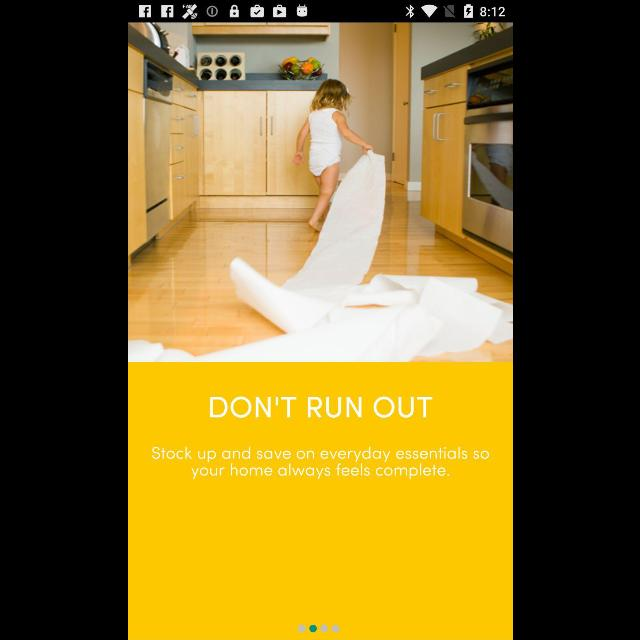image: (128, 23, 510, 361)
pageindicator: (297, 625, 339, 633)
text: (151, 446, 489, 480), (209, 396, 433, 418)
uppertaskbar: (128, 1, 512, 23)
